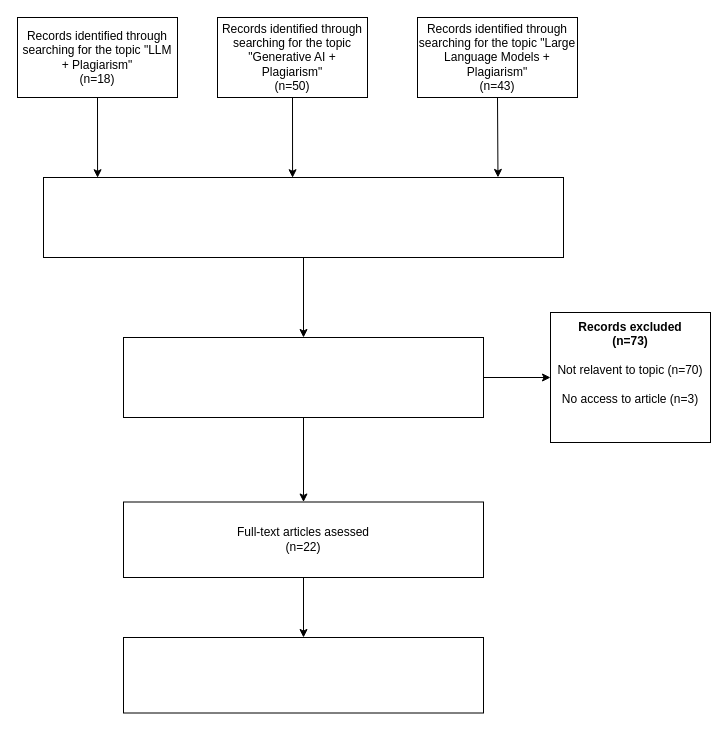
This 728x731 diagram has some shape labels left out. Each missing label, with the box of its shape:
Records after duplicate removed (n=95): (42, 176, 564, 258)
Records screened (n=95): (122, 336, 484, 418)
Studies included in the synthesis (n=22): (122, 636, 484, 713)
